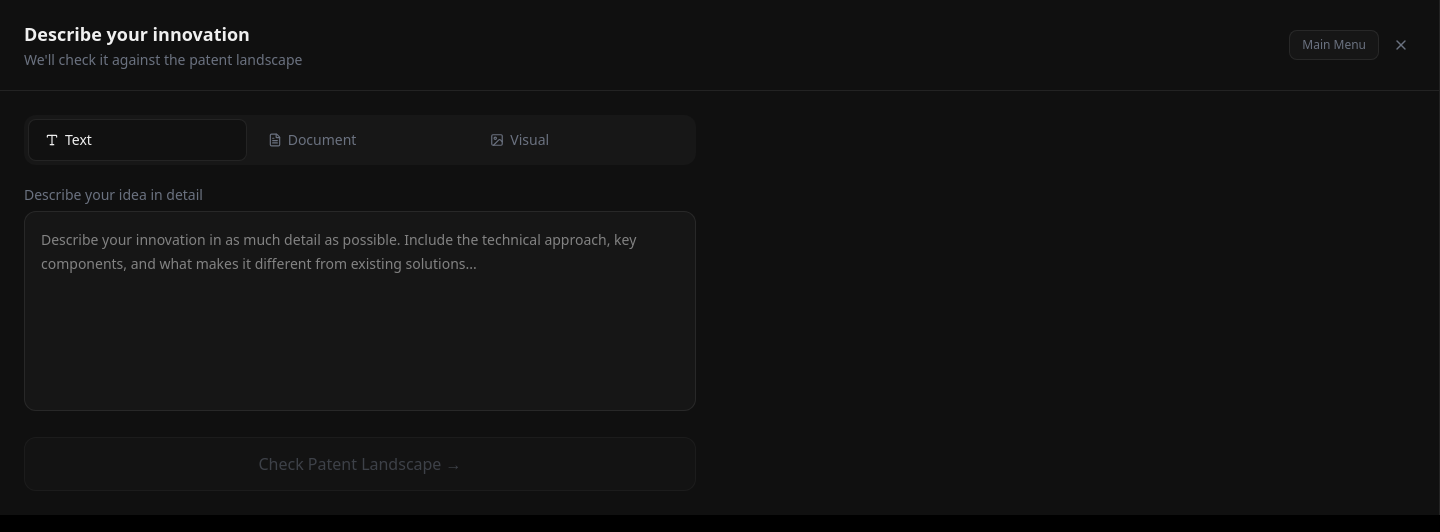
Test: IdeaInputPanel › switches to document tab and shows upload zone
Click the button "Document".
click(360, 140)  # box top-left (251, 119), bottom-right (469, 161)
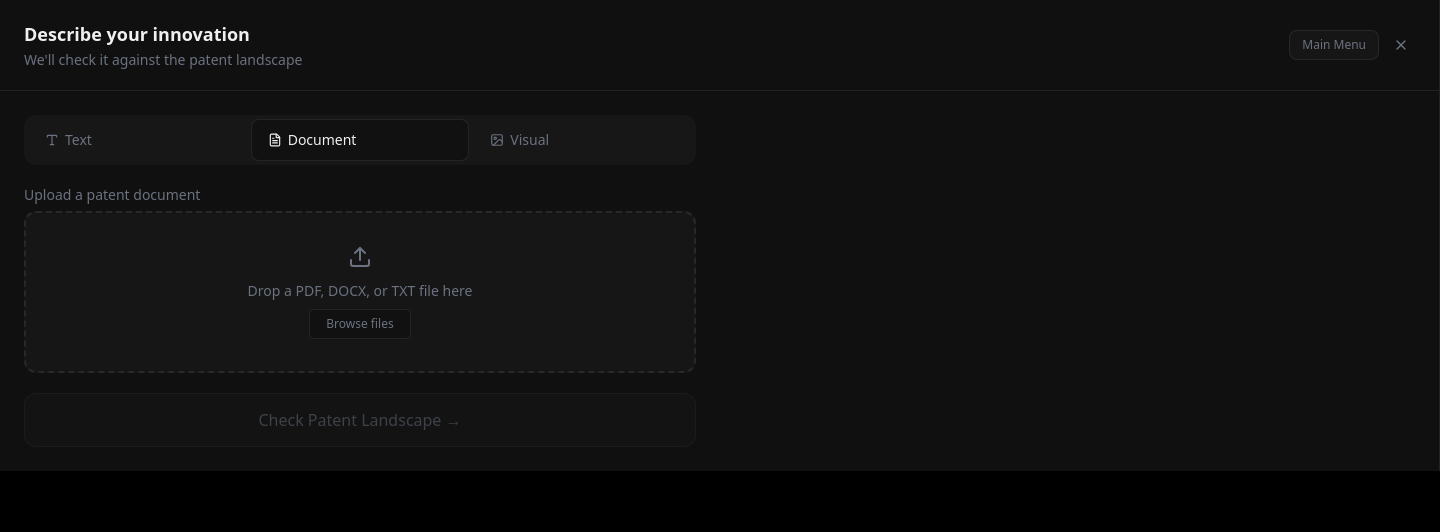
Expected: the text "Upload a patent document" is shown, top-left (24, 185), bottom-right (200, 204)
Expected: the text "Drop a PDF, DOCX, or TXT file here" is shown, top-left (248, 281), bottom-right (472, 301)
